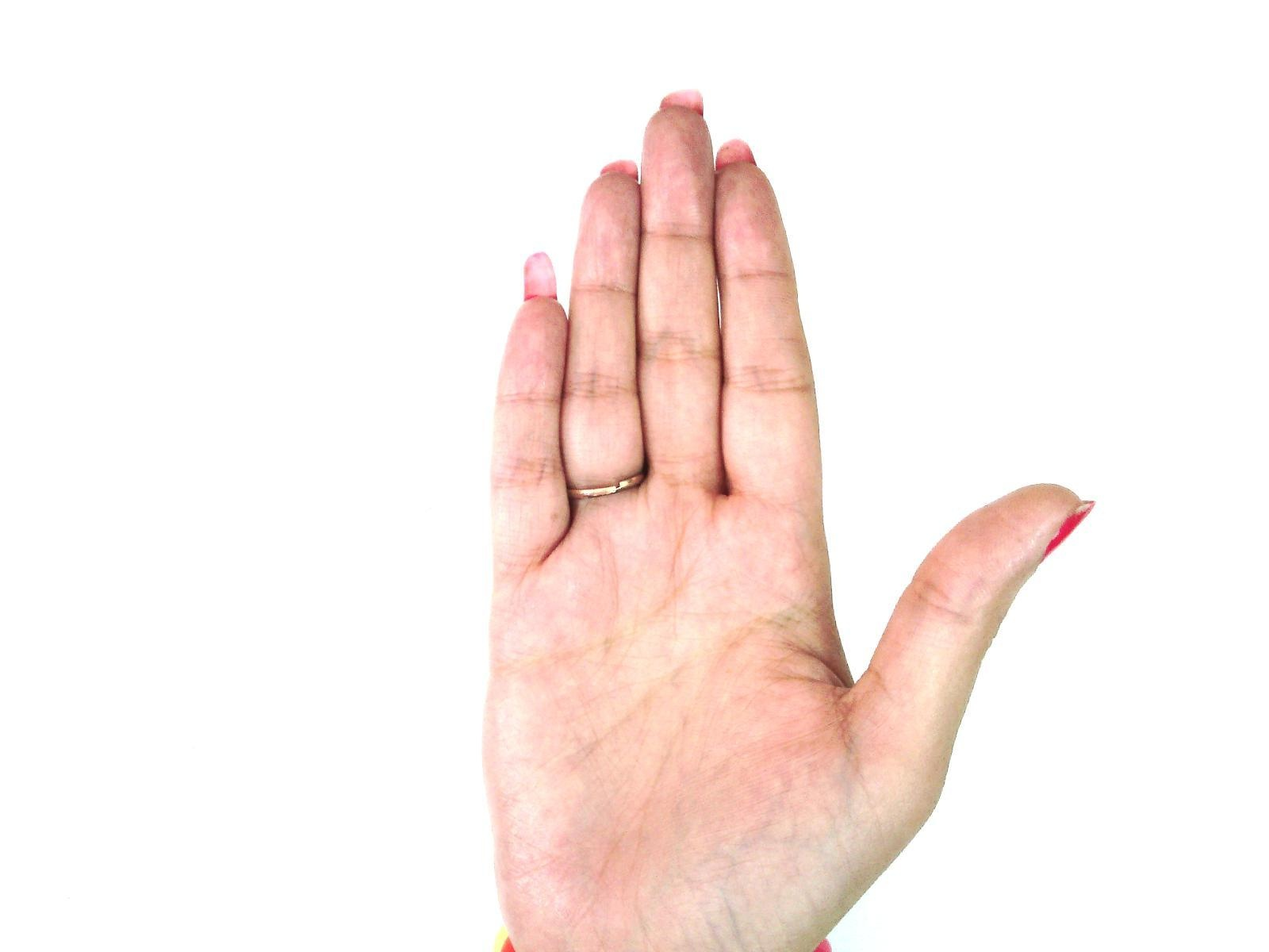open_palm: (478, 89, 1097, 951)
